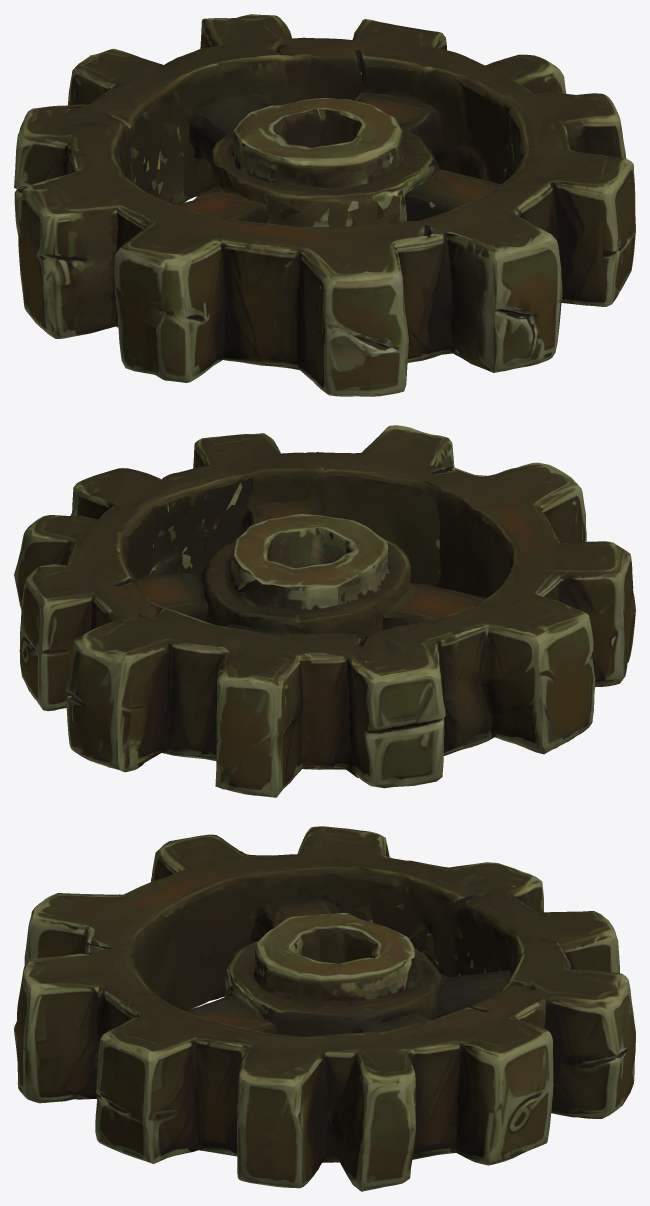
File: item_ancient_gear.glb
The picture shows the model from 3 angles, top to bottom: view 1: azimuth 30°, elevation 25°; view 2: azimuth 150°, elevation 25°; view 3: azimuth 270°, elevation 25°; orthographic projection. The views are drawn at different scales.
Parts seen in each view (by area): view 1: item_ancient_gear; view 2: item_ancient_gear; view 3: item_ancient_gear.
Boxes of the visible parts, x1,y1,x2,y2 form: item_ancient_gear: (14, 14, 635, 396); item_ancient_gear: (14, 425, 635, 797); item_ancient_gear: (14, 826, 635, 1191).
Size of the model in its own units: 0.196 by 0.0491 by 0.2.
1 material, 1 textured.
